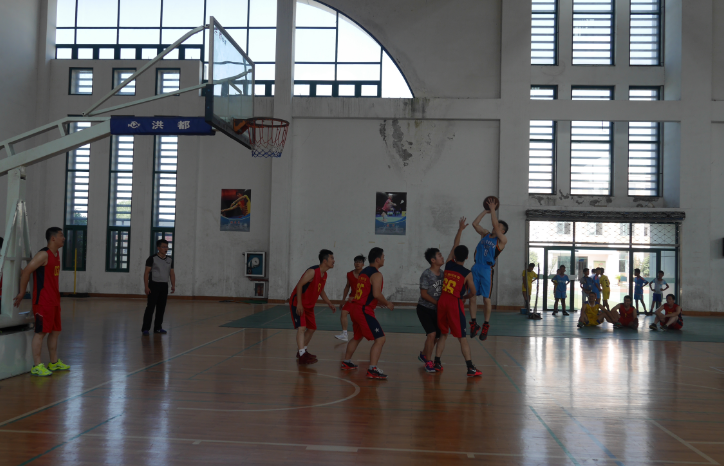ball: (483, 195, 502, 211)
basket: (242, 117, 293, 159)
player: (18, 227, 75, 377), (433, 218, 481, 379), (348, 248, 397, 380), (286, 249, 335, 363), (471, 213, 511, 339), (415, 246, 445, 368), (143, 239, 176, 335)
